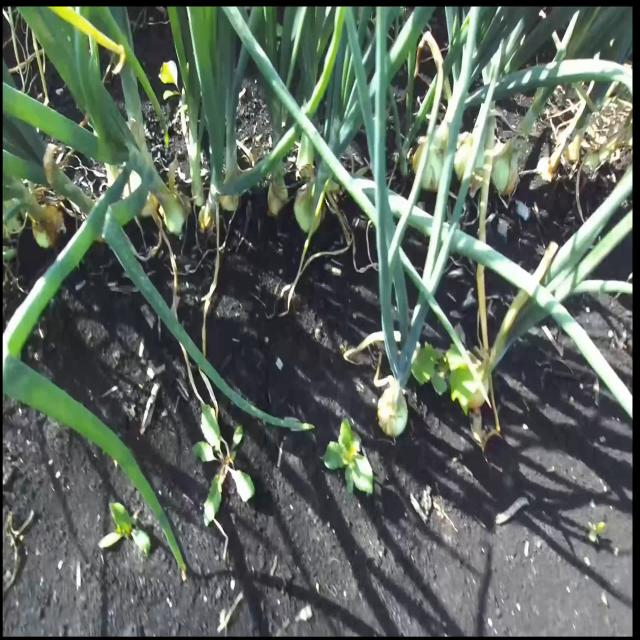onion: (409, 138, 442, 198), (376, 381, 408, 439), (32, 200, 66, 251), (493, 138, 518, 194), (296, 187, 323, 238), (456, 133, 480, 188), (158, 193, 186, 235)
